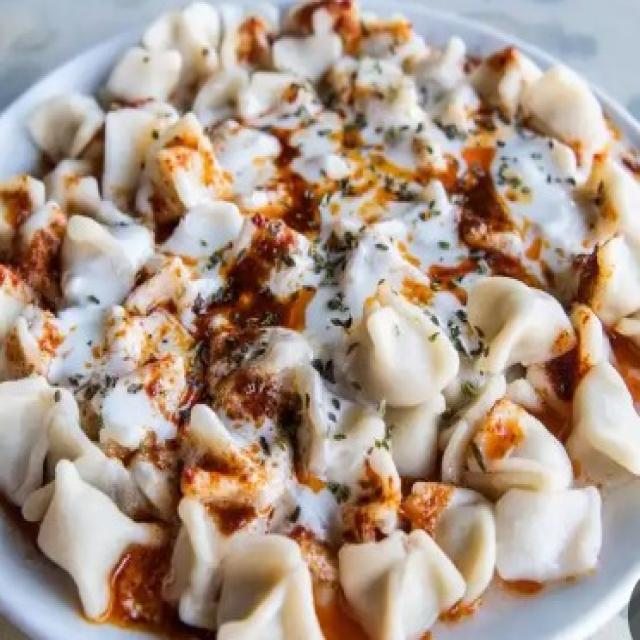ana_yemek: (1, 0, 640, 638)
